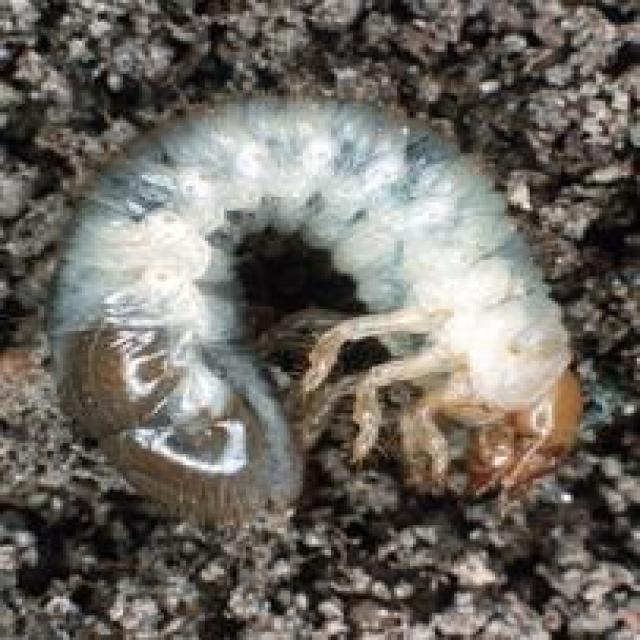Grub-Adult-: (15, 61, 603, 543)
